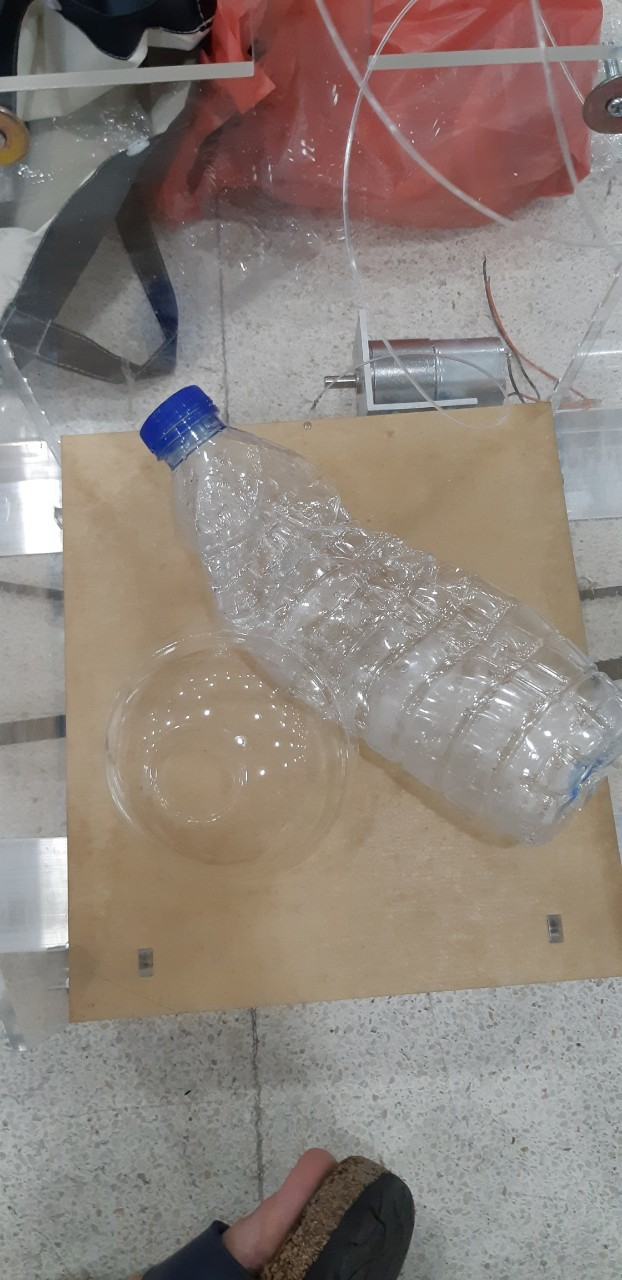PlasticBottle: (140, 389, 620, 841)
